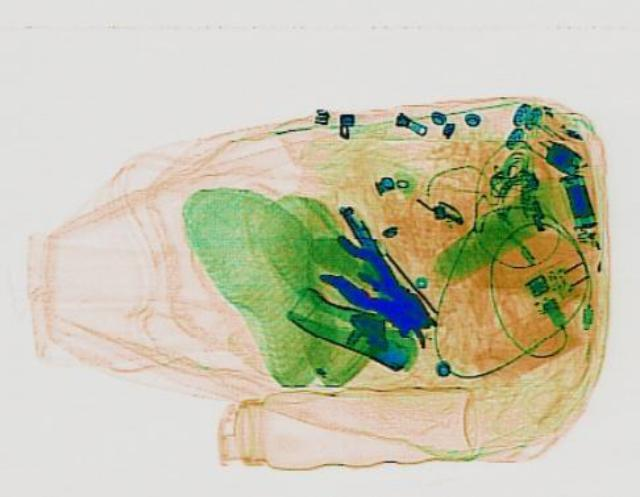Pliers: (295, 228, 451, 341)
